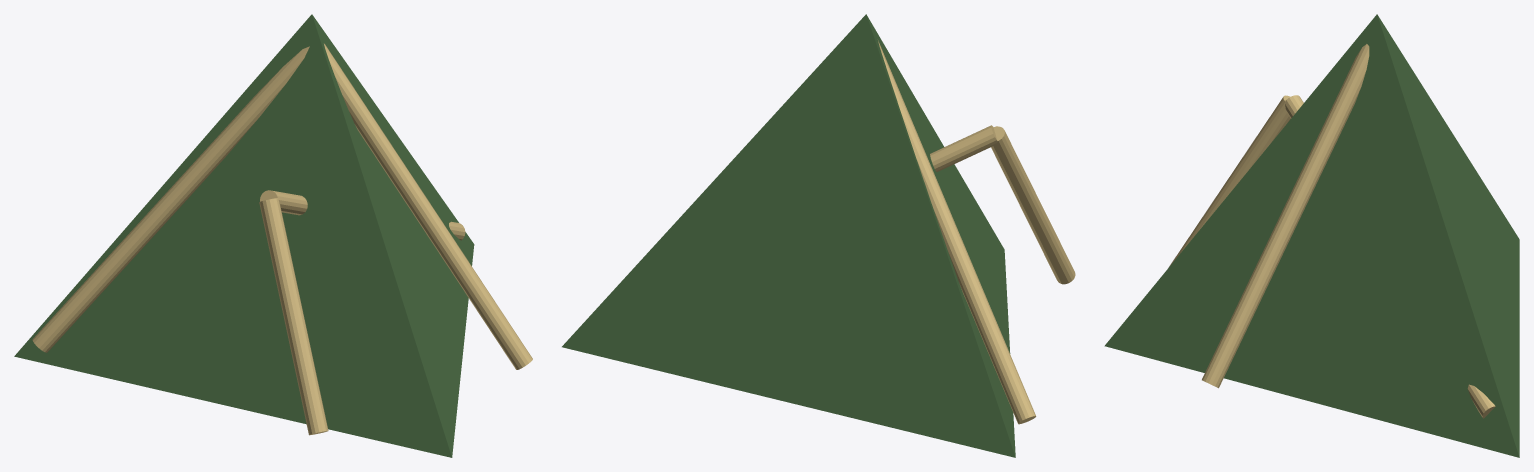
The model's file is scendance-plan-cn-zongzi.glb.
3 renders of one model, left to right at view 1: azimuth 30°, elevation 25°; view 2: azimuth 150°, elevation 25°; view 3: azimuth 270°, elevation 25°, orthographic. The views are drawn at different scales.
Size of the model in its own units: 0.127 by 0.09 by 0.102.
